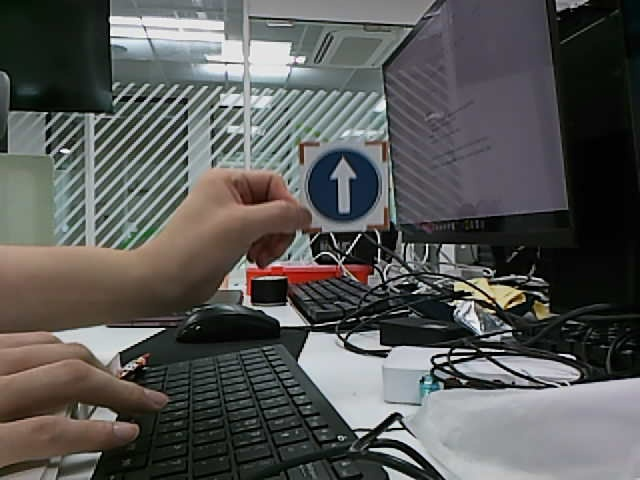go: (306, 150, 381, 223)
